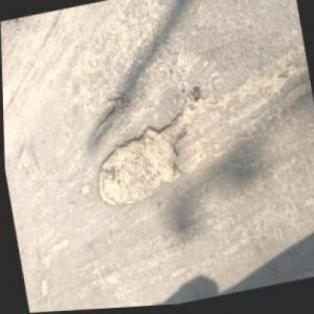Hueco: (82, 86, 214, 214), (86, 92, 133, 139), (36, 235, 72, 271), (13, 142, 32, 172), (35, 276, 49, 306), (76, 181, 90, 198)
